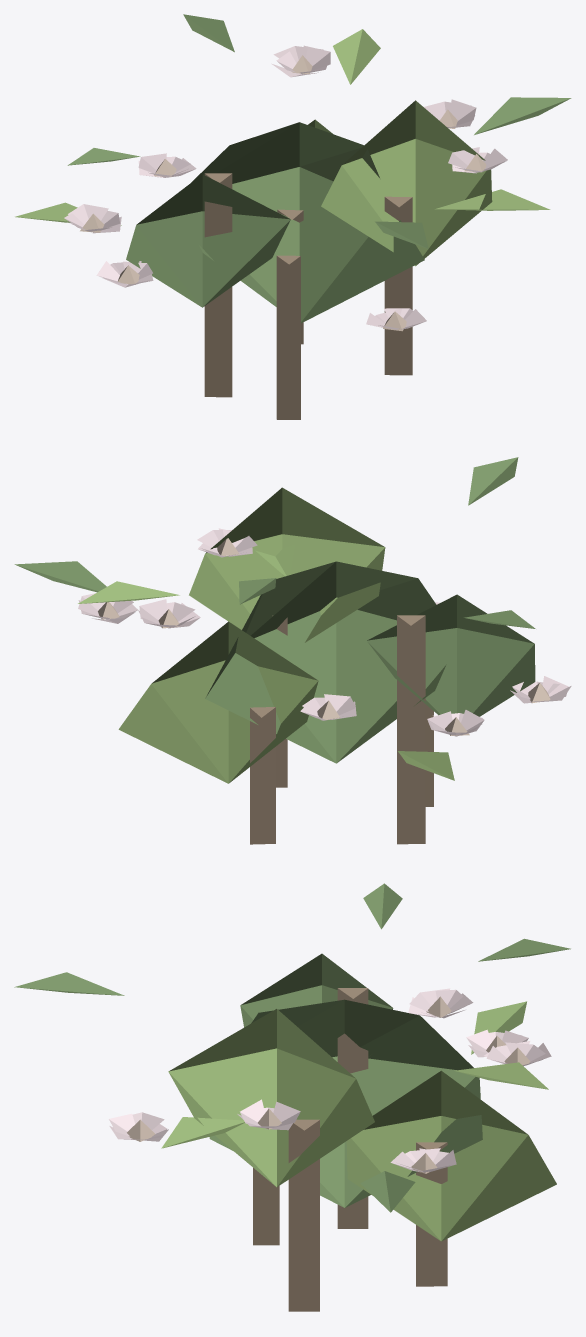
File: guan.moli__bloom.glb
3 views of the same model, one above another, from view 1: azimuth 30°, elevation 25°; view 2: azimuth 150°, elevation 25°; view 3: azimuth 270°, elevation 25° (orthographic). The views are drawn at different scales.
Parts seen in each view (by area): view 1: guan.moli__bloom; view 2: guan.moli__bloom; view 3: guan.moli__bloom.
Part boxes in pixels (x1,y1,x2,y2): guan.moli__bloom: [15, 14, 571, 419]; guan.moli__bloom: [14, 457, 571, 844]; guan.moli__bloom: [14, 883, 570, 1311].
Size of the model in its own units: 2.34 by 1.31 by 2.06.
